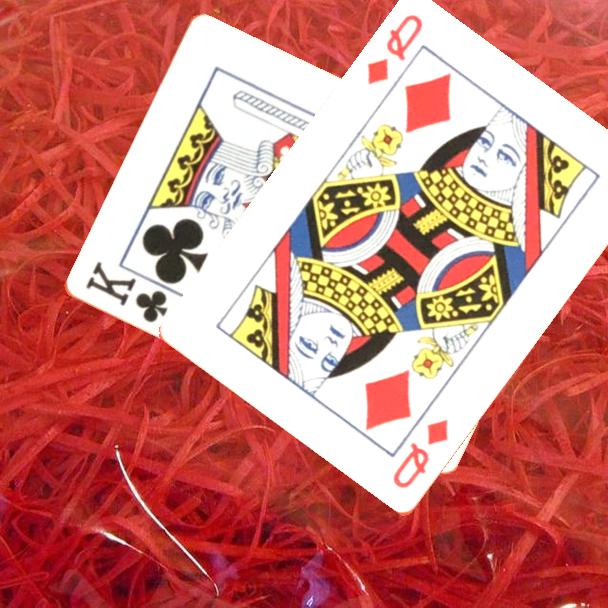c13: (81, 258, 170, 326)
d12: (363, 11, 426, 89), (389, 416, 452, 493)
